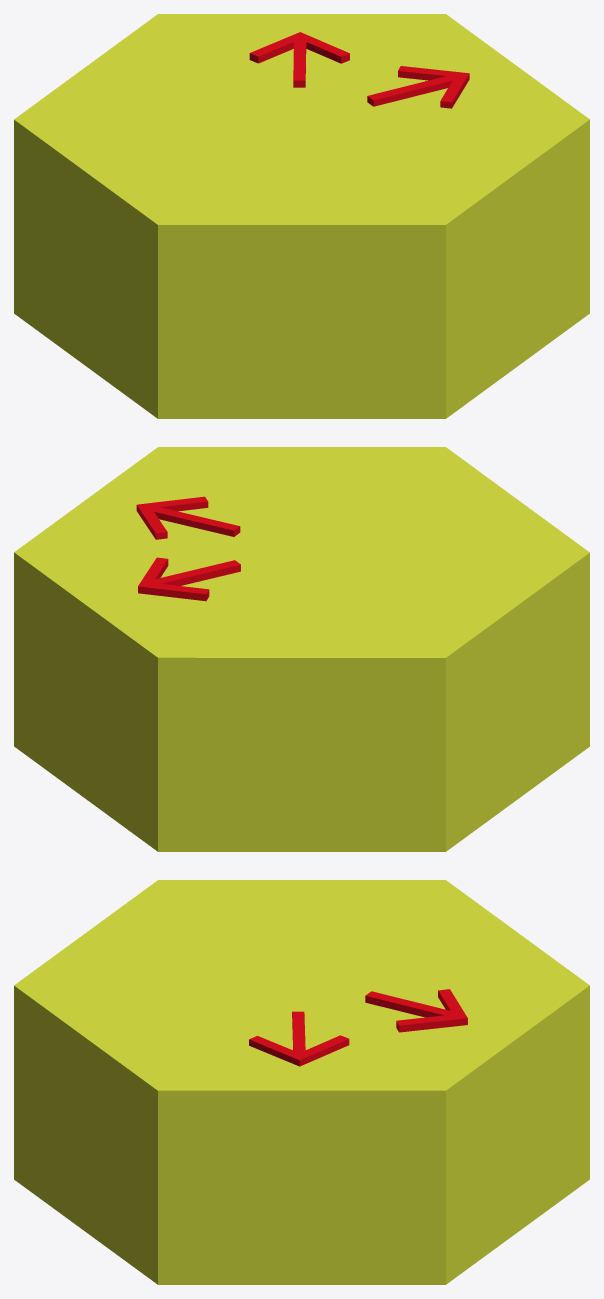
File: NormalTileArrows.fbx
3 renders of one model, top to bottom at view 1: azimuth 30°, elevation 25°; view 2: azimuth 150°, elevation 25°; view 3: azimuth 270°, elevation 25°, orthographic.
Visible parts, largest first — view 1: NormalTileArrows; view 2: NormalTileArrows; view 3: NormalTileArrows.
Part boxes in pixels (box(x1,y1,x2,y2)): NormalTileArrows: box(14, 14, 589, 418); NormalTileArrows: box(14, 447, 589, 851); NormalTileArrows: box(14, 880, 589, 1284).
Bounding box in the file's own units: 173 × 77.05 × 200.
